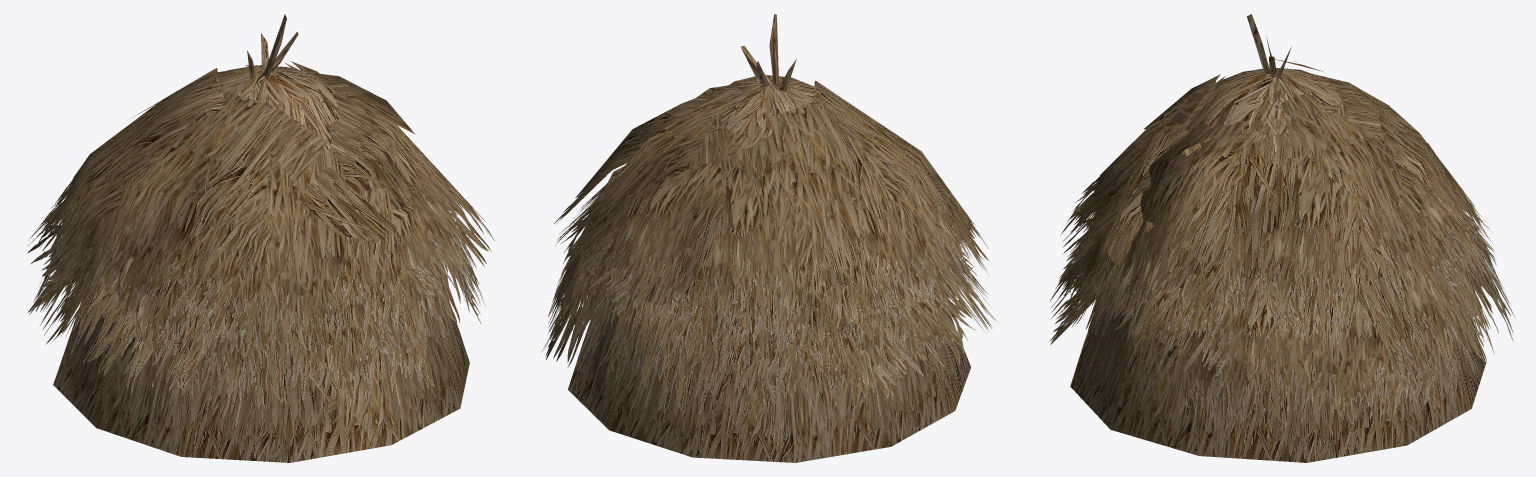
The model's file is Cover_Cd02a.glb.
3 renders of one model, left to right at view 1: azimuth 30°, elevation 25°; view 2: azimuth 150°, elevation 25°; view 3: azimuth 270°, elevation 25°, orthographic. The views are drawn at different scales.
Parts seen in each view (by area): view 1: xiutz_cd_02a_0; view 2: xiutz_cd_02a_0; view 3: xiutz_cd_02a_0.
Part boxes in pixels (x1,y1,x2,y2): xiutz_cd_02a_0: (27, 14, 494, 462); xiutz_cd_02a_0: (541, 14, 997, 462); xiutz_cd_02a_0: (1049, 14, 1515, 462).
Size of the model in its own units: 4.13 by 3.38 by 4.07.
2 materials, 2 textured.
